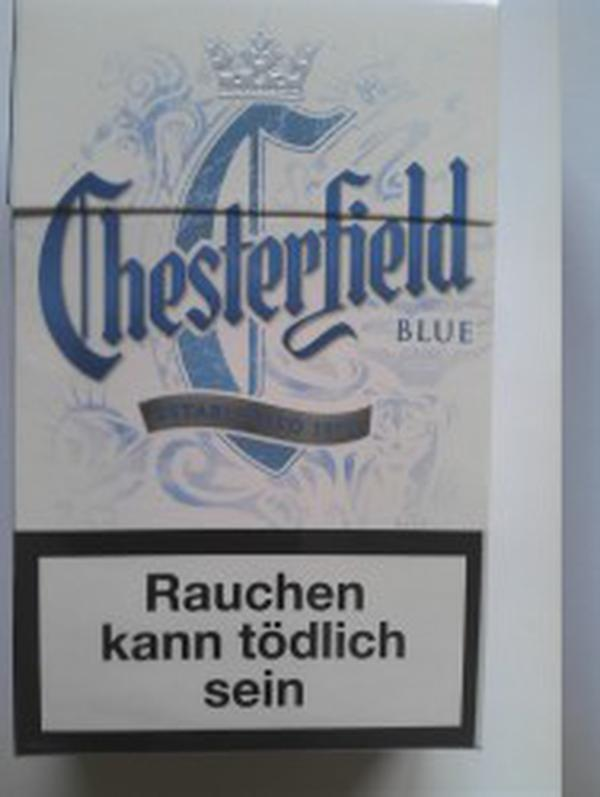chesterfield_blue: (19, 4, 477, 748)
